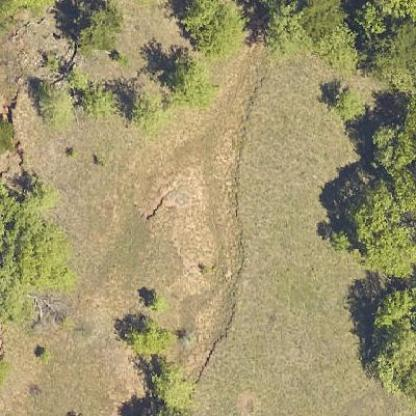tree-top: (0, 181, 76, 292), (334, 184, 415, 277), (358, 282, 415, 393), (303, 0, 364, 76), (174, 0, 247, 58), (254, 2, 312, 62), (62, 0, 120, 53), (166, 57, 216, 114), (145, 365, 200, 413), (122, 85, 168, 134), (38, 84, 78, 130), (122, 320, 174, 354), (329, 88, 369, 122), (81, 83, 117, 117)
